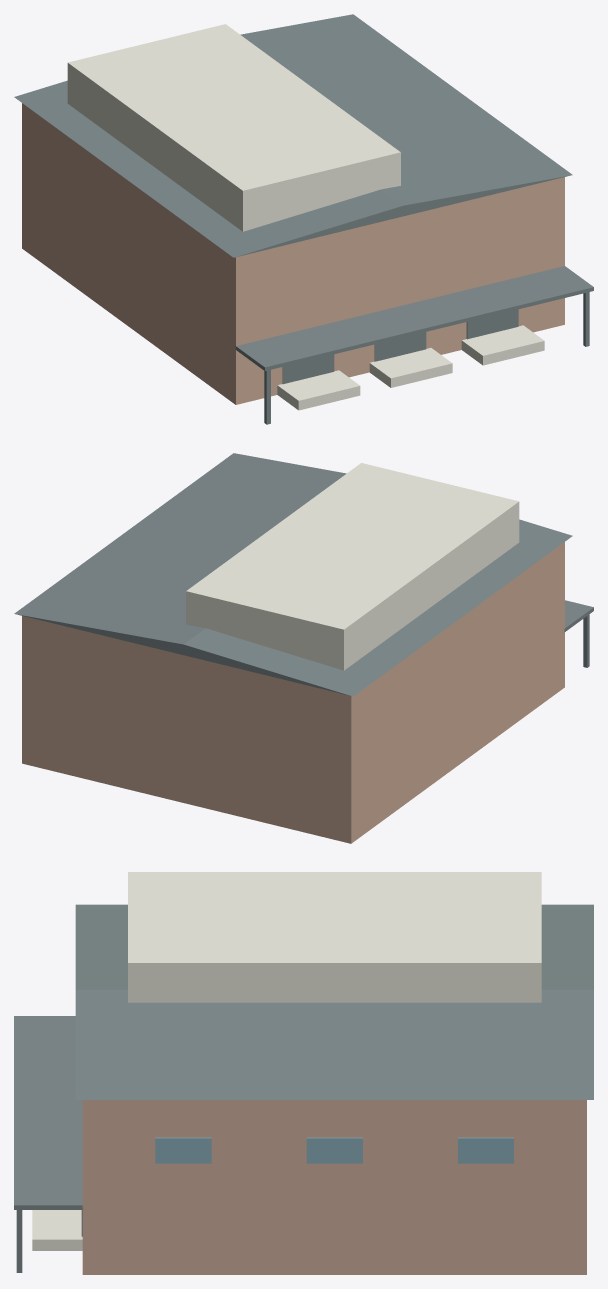
The picture shows the model from 3 angles, top to bottom: view 1: azimuth 30°, elevation 25°; view 2: azimuth 150°, elevation 25°; view 3: azimuth 270°, elevation 25°; orthographic projection. The views are drawn at different scales.
Bounding box in the file's own units: 33 × 18 × 41.4.
